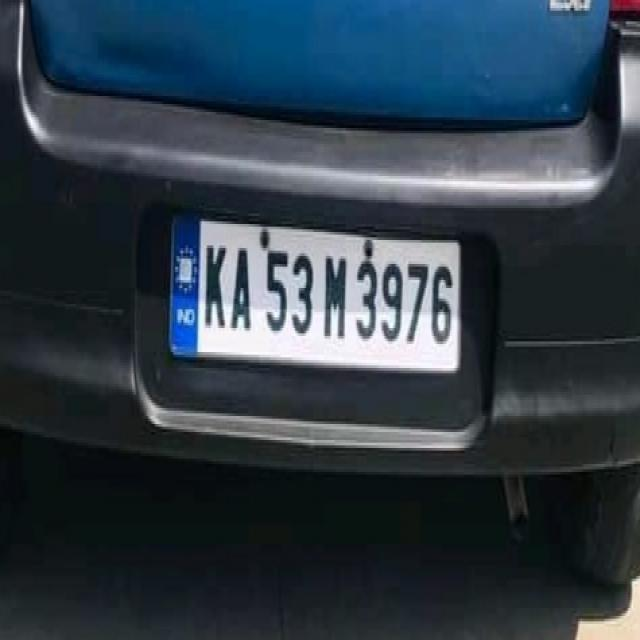3: (353, 247, 378, 347), (292, 247, 316, 343)
5: (262, 238, 290, 334)
6: (428, 254, 456, 352)
7: (404, 252, 431, 350)
9: (382, 252, 404, 351)
A: (230, 236, 258, 338)
K: (203, 234, 228, 334)
M: (322, 239, 348, 353)
